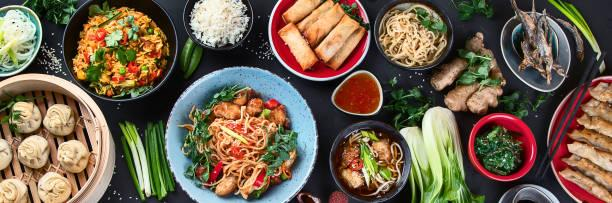Braised Crucian Carp: (164, 65, 313, 202), (0, 72, 115, 202), (62, 0, 178, 105), (268, 0, 368, 82), (328, 119, 412, 202), (501, 4, 571, 89), (373, 0, 453, 72)
